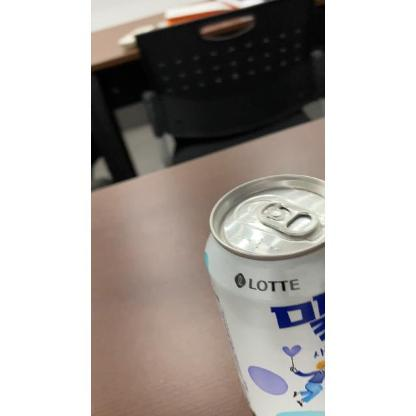Can: (202, 171, 324, 416)
